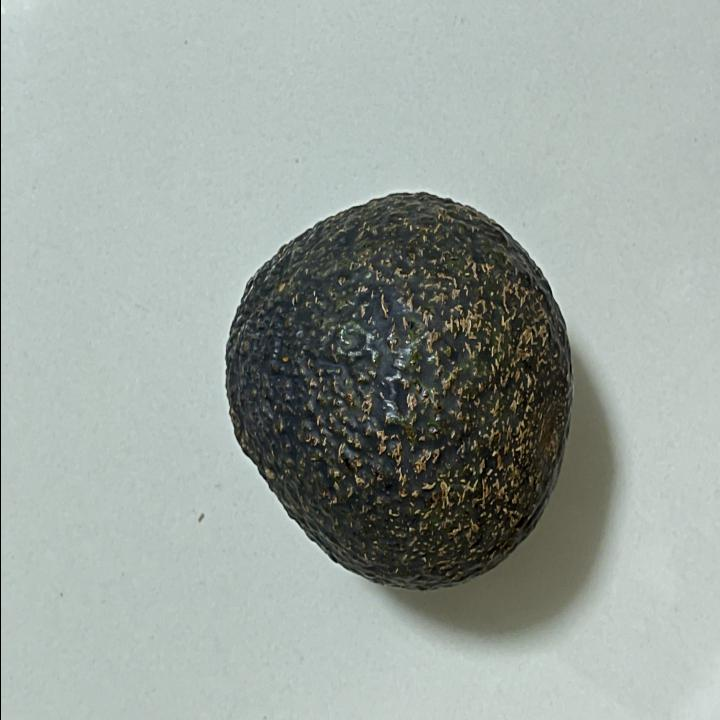Level2: (216, 183, 577, 602)
